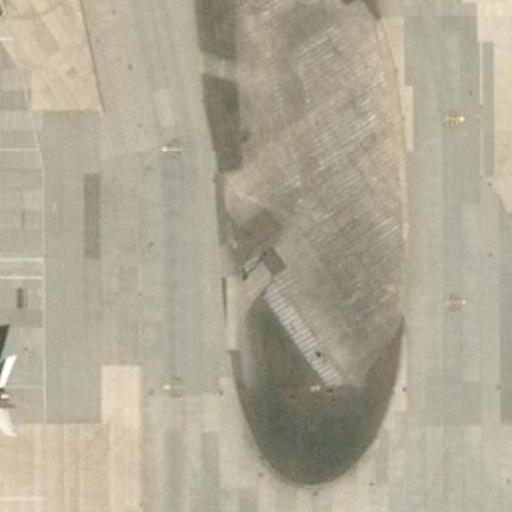Aircraft: (0, 271, 28, 501)
